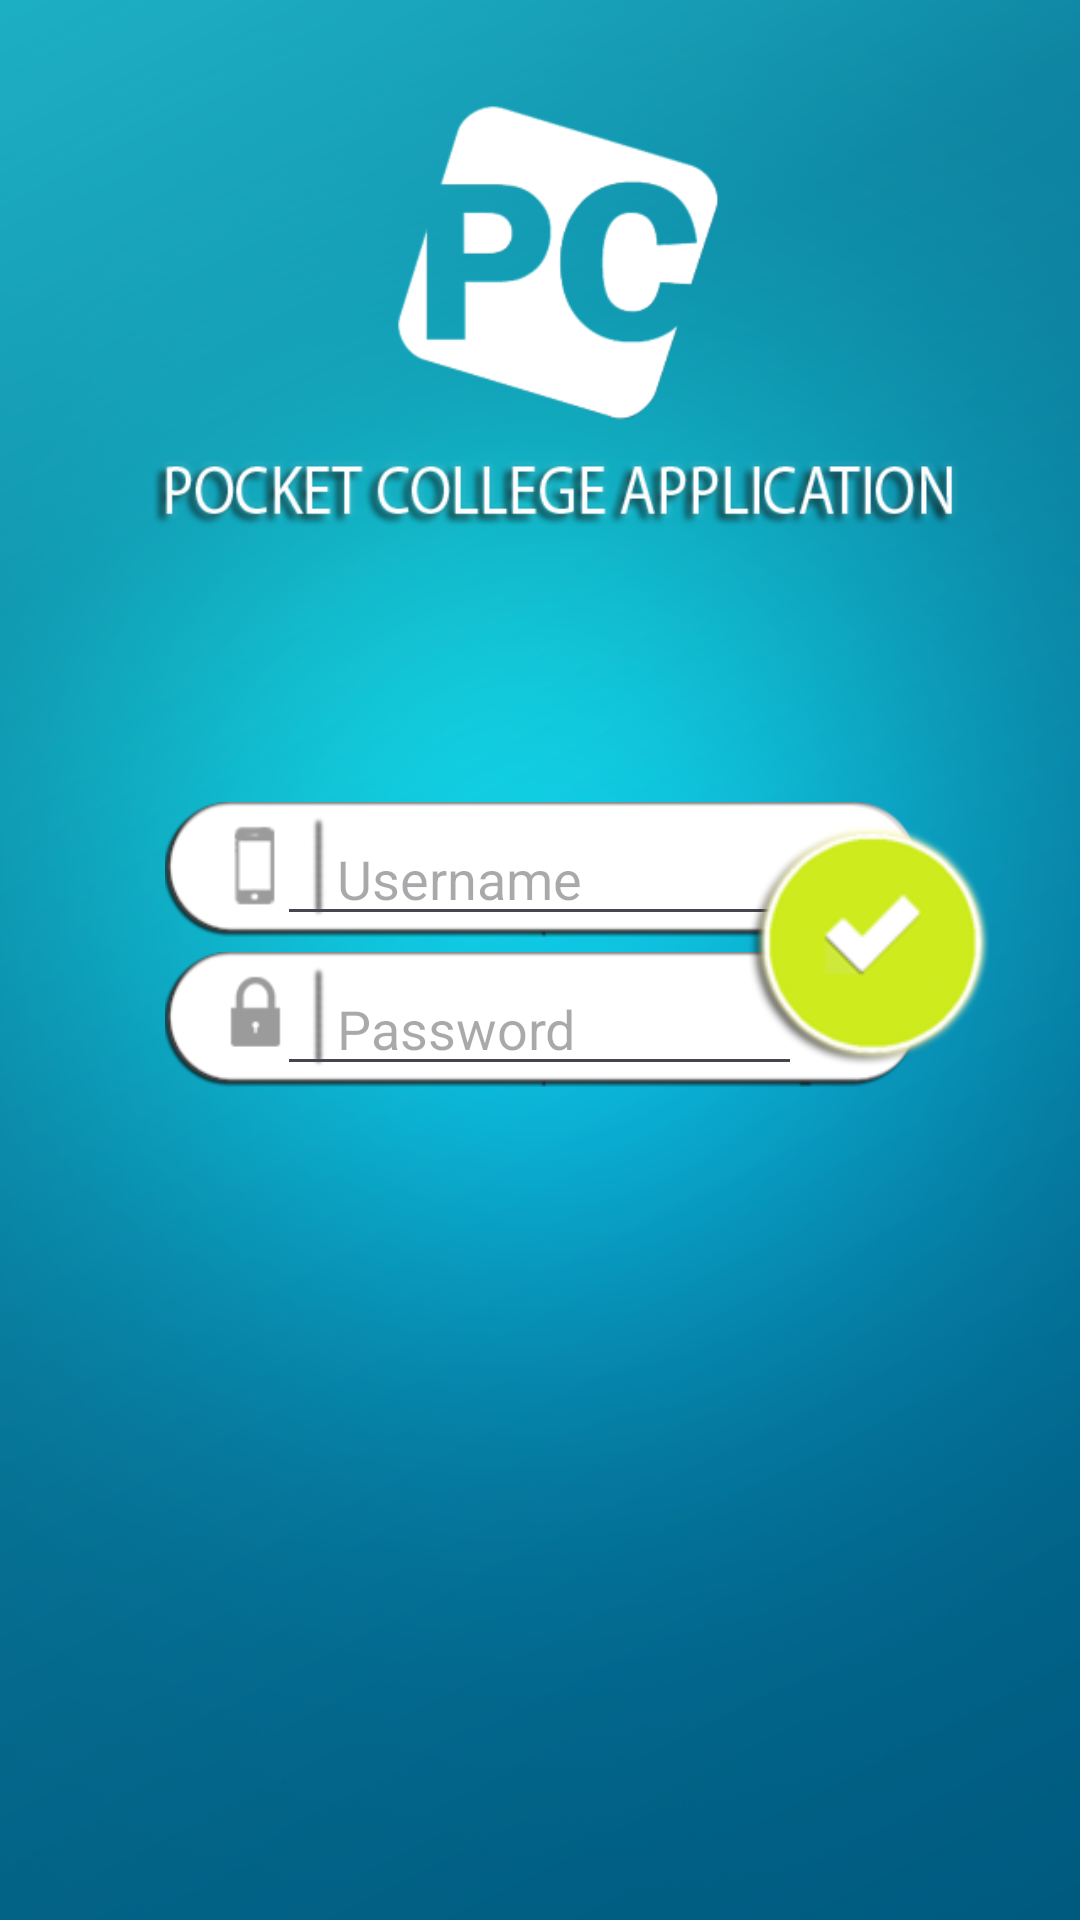

Point at icon controls on the screen. Image size 1080x1920, points as (x=x, y=y).
go this: (x=869, y=946)
